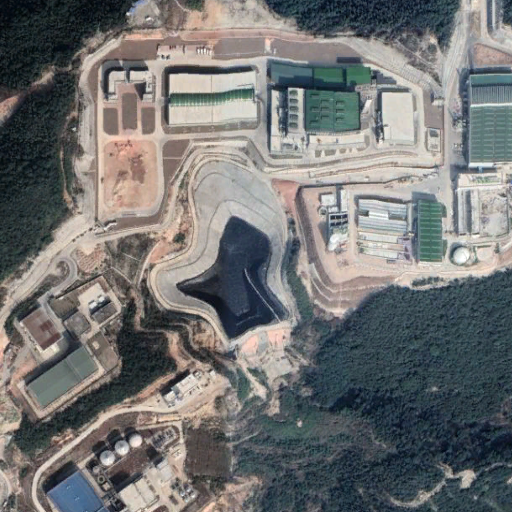lf: (141, 149, 293, 343)
